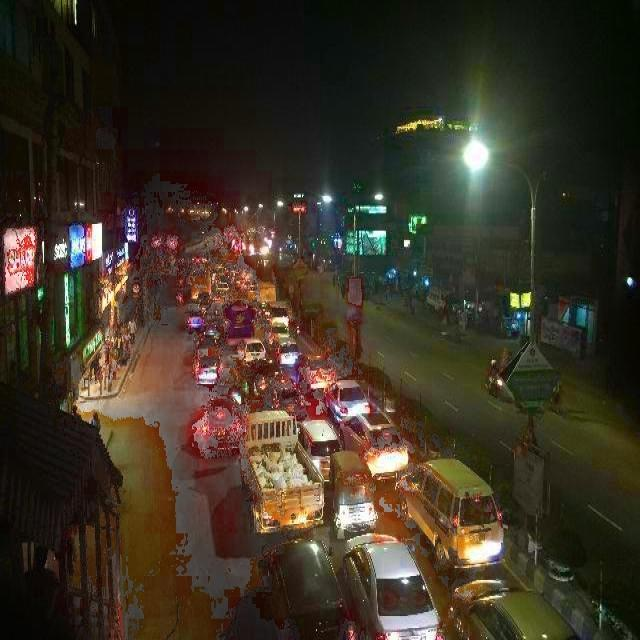black: (258, 540, 356, 640), (194, 392, 247, 452)
maroon: (266, 382, 305, 419)
silver: (342, 532, 442, 640), (455, 574, 580, 640)
white: (400, 462, 508, 570), (345, 414, 411, 474), (298, 419, 349, 480), (328, 381, 373, 423), (193, 348, 231, 388), (238, 338, 268, 362)
